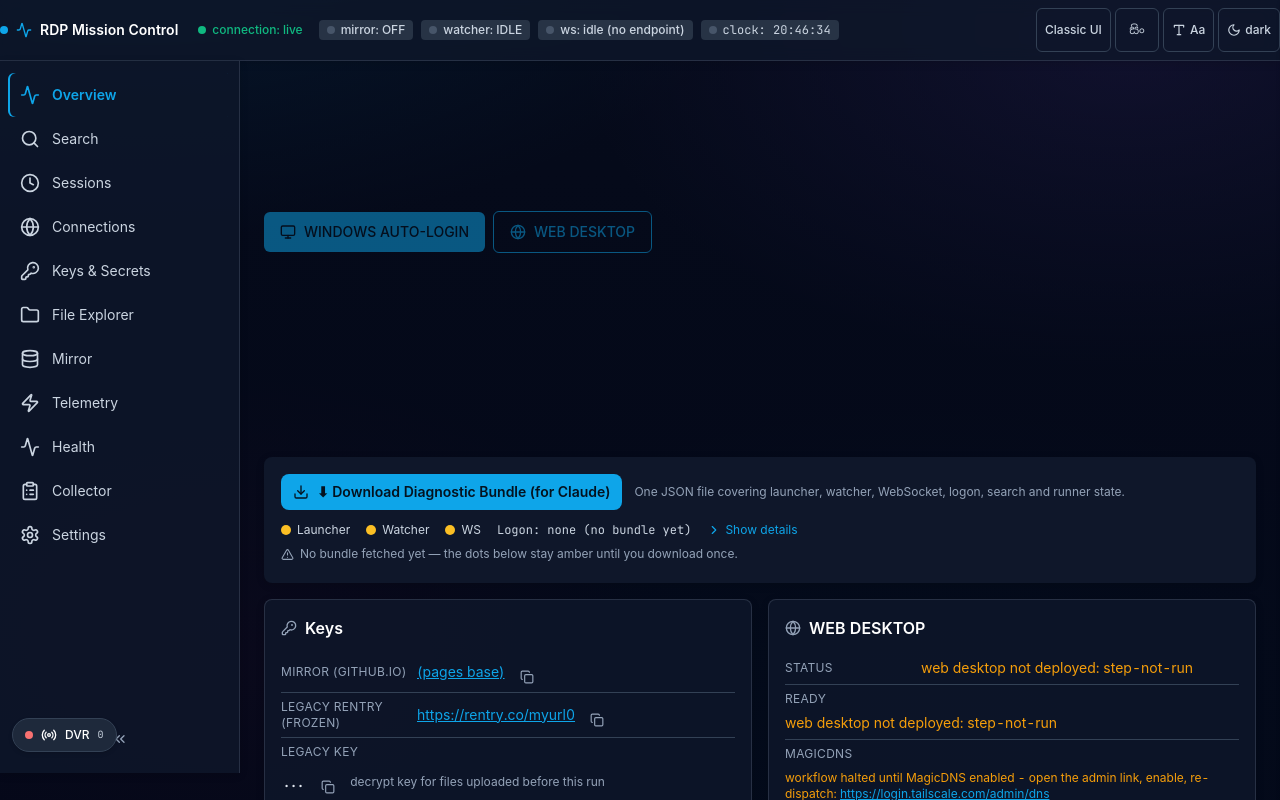
F76 §2.1 sidebar Search entry › clicking Search navigates to /search and renders the CommandBar
Click the link with id "f56".
click(59, 139)  # box [20,129,98,149]
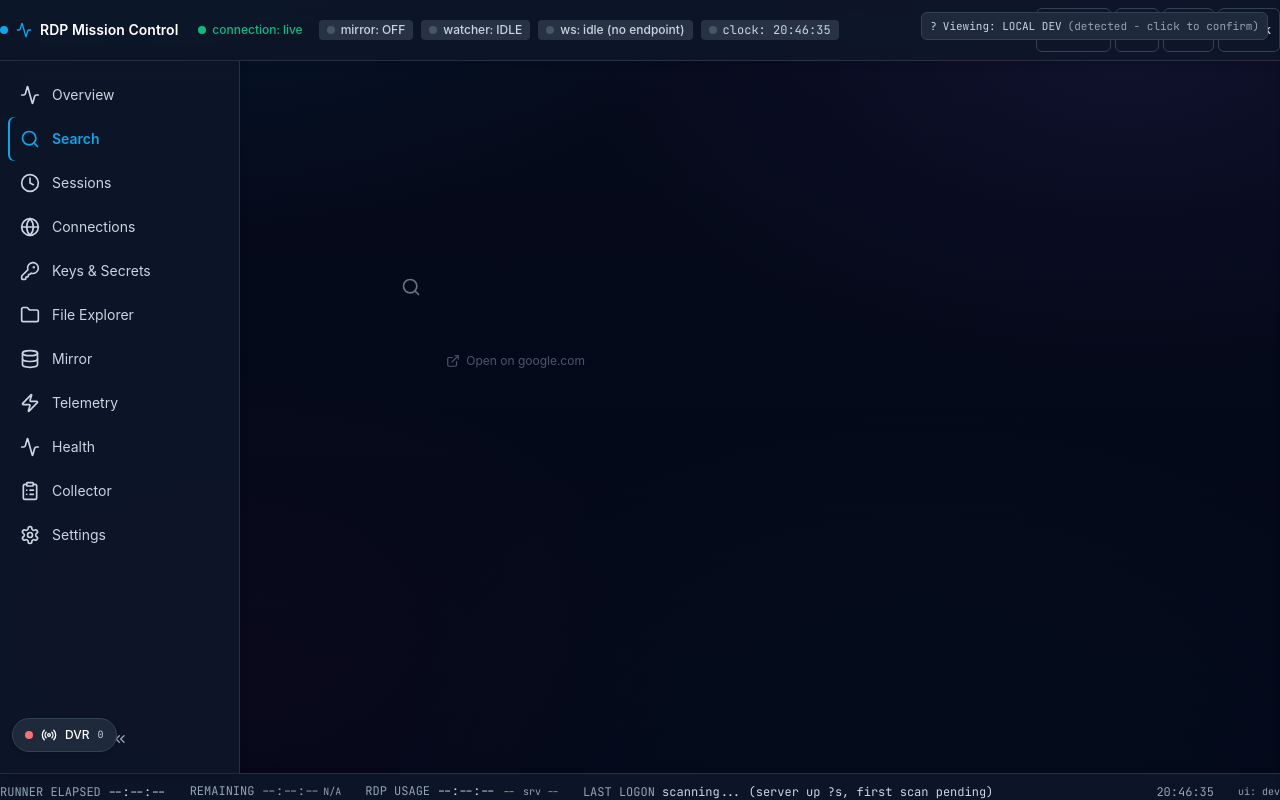
Now the element with test id "search-page" is shown, box [380,81,1140,657]
Now the element with test id "hero-bar" is shown, box [380,251,1140,383]
